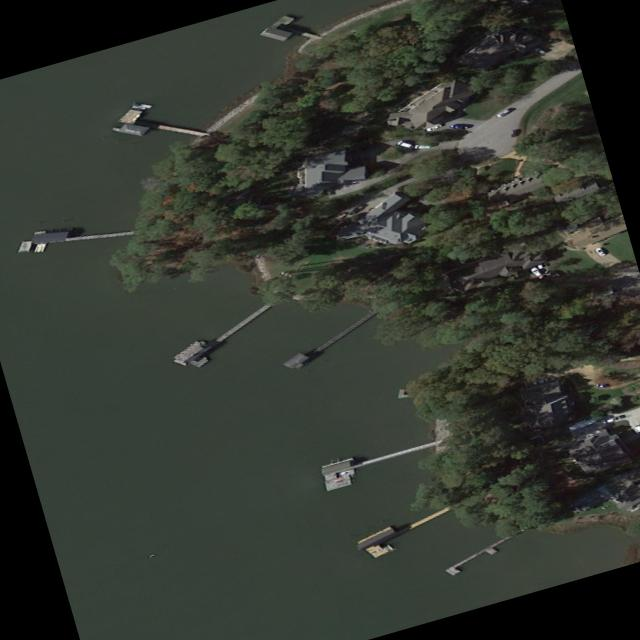small-vehicle: (346, 204, 366, 216), (392, 140, 412, 150), (599, 415, 619, 425), (493, 108, 511, 118), (424, 123, 442, 132), (529, 266, 543, 277), (533, 46, 547, 56), (592, 382, 611, 389), (448, 123, 470, 129), (593, 247, 605, 257), (411, 144, 433, 149), (631, 423, 640, 432), (508, 128, 516, 137)
